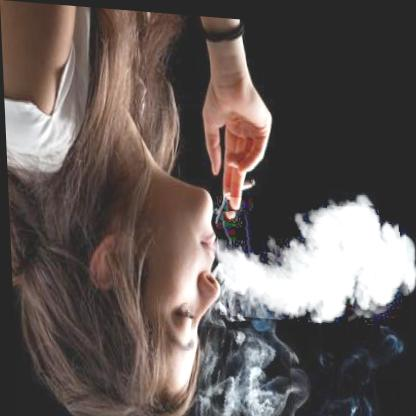smoke: (213, 192, 407, 323), (191, 323, 290, 416)
